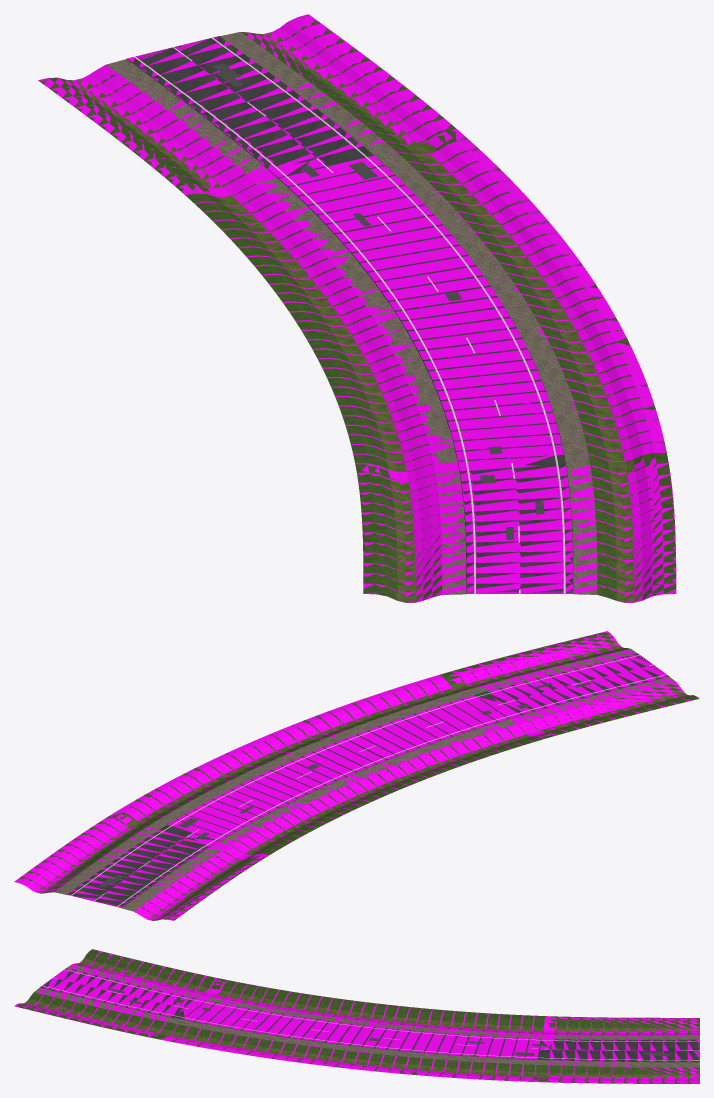
The model's file is EN_Road_Country2_Curve30_R160.fbx.
3 views of the same model, one above another, from view 1: azimuth 30°, elevation 25°; view 2: azimuth 150°, elevation 25°; view 3: azimuth 270°, elevation 25° (orthographic). The views are drawn at different scales.
Parts seen in each view (by area): view 1: COL_DriveSurface, EN_Road_Country2_Curve30_R160_Surface, EN_Road_Country2_Curve30_R160_Markings, EN_Road_Country2_Curve30_R160_Patches; view 2: COL_DriveSurface, EN_Road_Country2_Curve30_R160_Surface, EN_Road_Country2_Curve30_R160_Markings, EN_Road_Country2_Curve30_R160_Patches; view 3: EN_Road_Country2_Curve30_R160_Surface, COL_DriveSurface, EN_Road_Country2_Curve30_R160_Markings, EN_Road_Country2_Curve30_R160_Patches.
Part boxes in pixels (bbox=[...]): COL_DriveSurface: bbox=[38, 14, 676, 602]; EN_Road_Country2_Curve30_R160_Surface: bbox=[39, 15, 676, 602]; EN_Road_Country2_Curve30_R160_Markings: bbox=[134, 37, 565, 593]; EN_Road_Country2_Curve30_R160_Patches: bbox=[212, 63, 544, 539]; COL_DriveSurface: bbox=[14, 631, 699, 920]; EN_Road_Country2_Curve30_R160_Surface: bbox=[16, 632, 698, 920]; EN_Road_Country2_Curve30_R160_Markings: bbox=[71, 655, 666, 906]; EN_Road_Country2_Curve30_R160_Patches: bbox=[99, 682, 591, 887]; EN_Road_Country2_Curve30_R160_Surface: bbox=[17, 949, 699, 1083]; COL_DriveSurface: bbox=[14, 949, 699, 1083]; EN_Road_Country2_Curve30_R160_Markings: bbox=[42, 969, 699, 1060]; EN_Road_Country2_Curve30_R160_Patches: bbox=[110, 989, 670, 1055].
Bounding box in the file's own units: 51.03 × 1.03 × 110.
